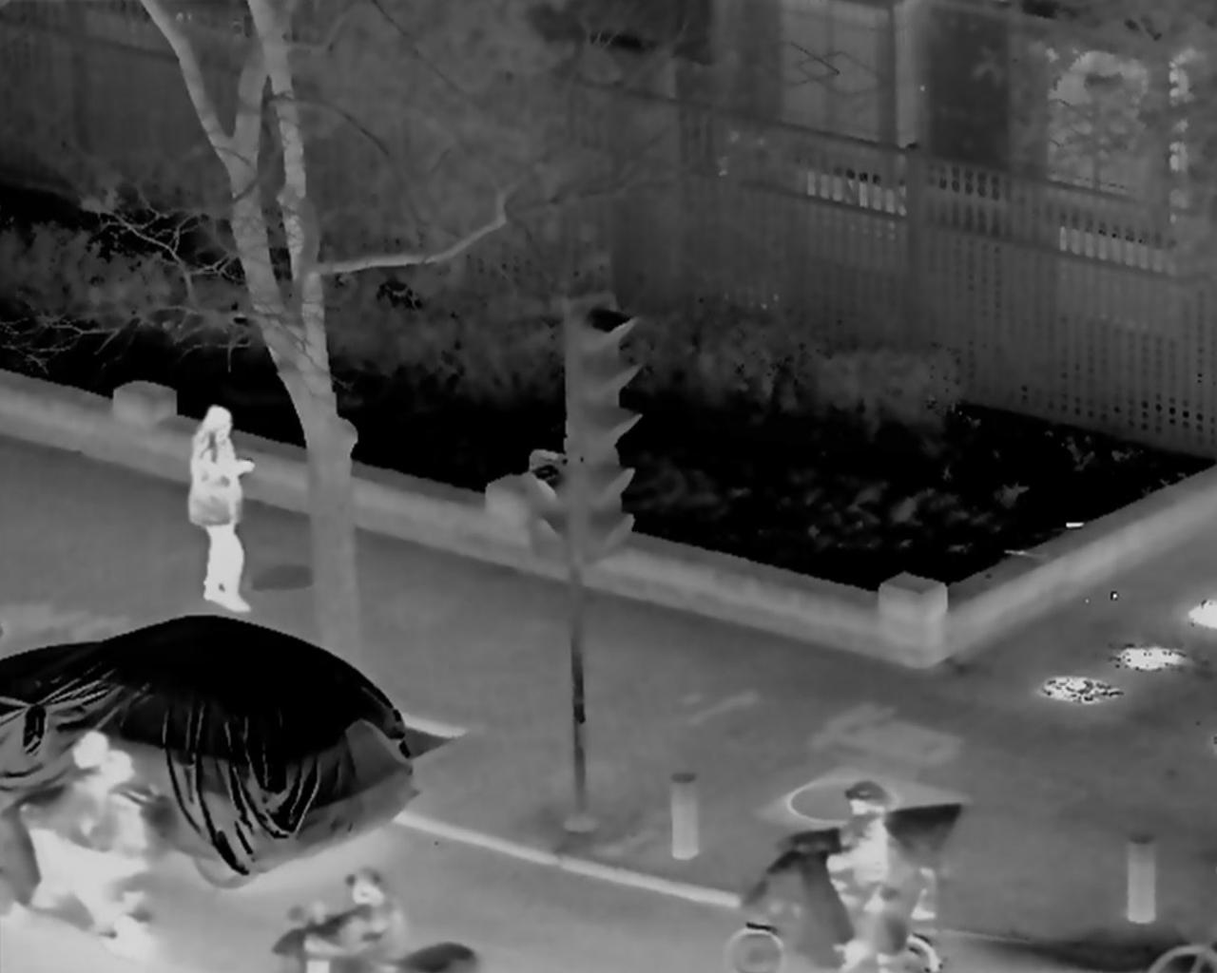person: (807, 780, 900, 973), (66, 755, 166, 930), (181, 403, 259, 618), (27, 728, 109, 904), (301, 874, 401, 973)
